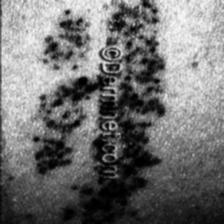Potentially Malignant Skin Tumors: (32, 77, 99, 175), (109, 0, 159, 62), (60, 180, 127, 224)
